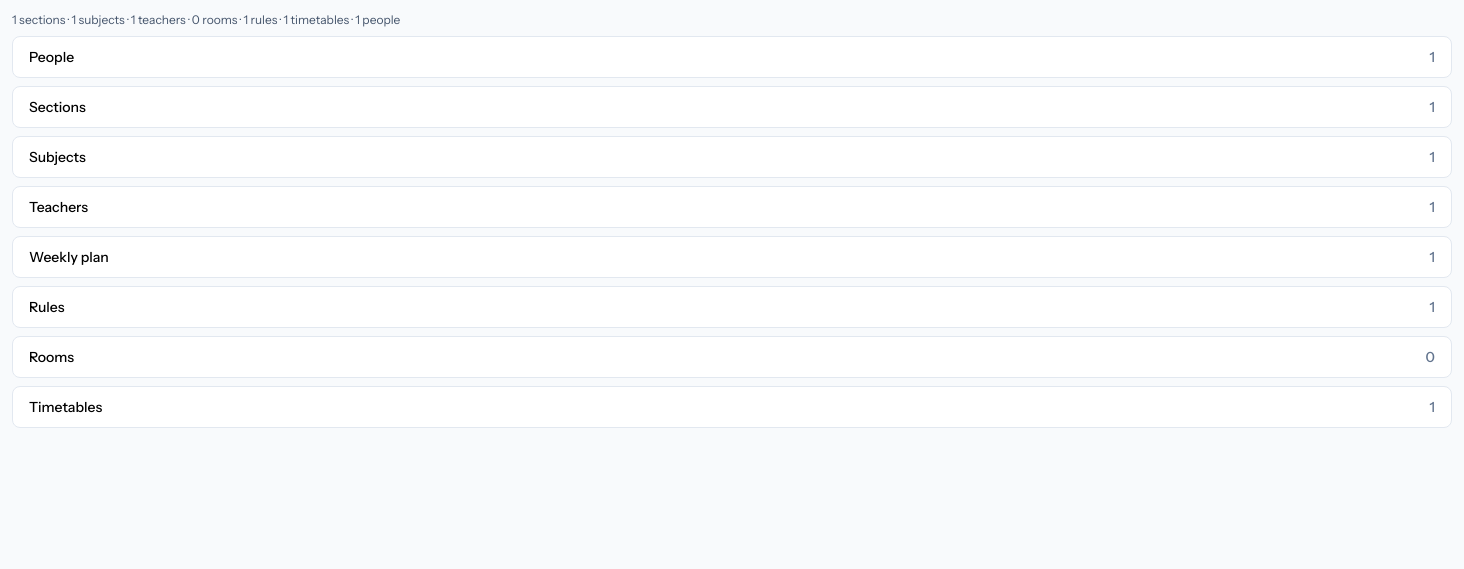
Scenario: admin: a school’s data and deleting › shows what the school entered, by section
Expected: the text "1 sections · 1 subjects · 1 teachers" is shown, x1=12 y1=12 x2=400 y2=27
Click the button "Teachers 1" at {"x": 59, "y": 207}, box x1=13 y1=187 x2=1451 y2=227
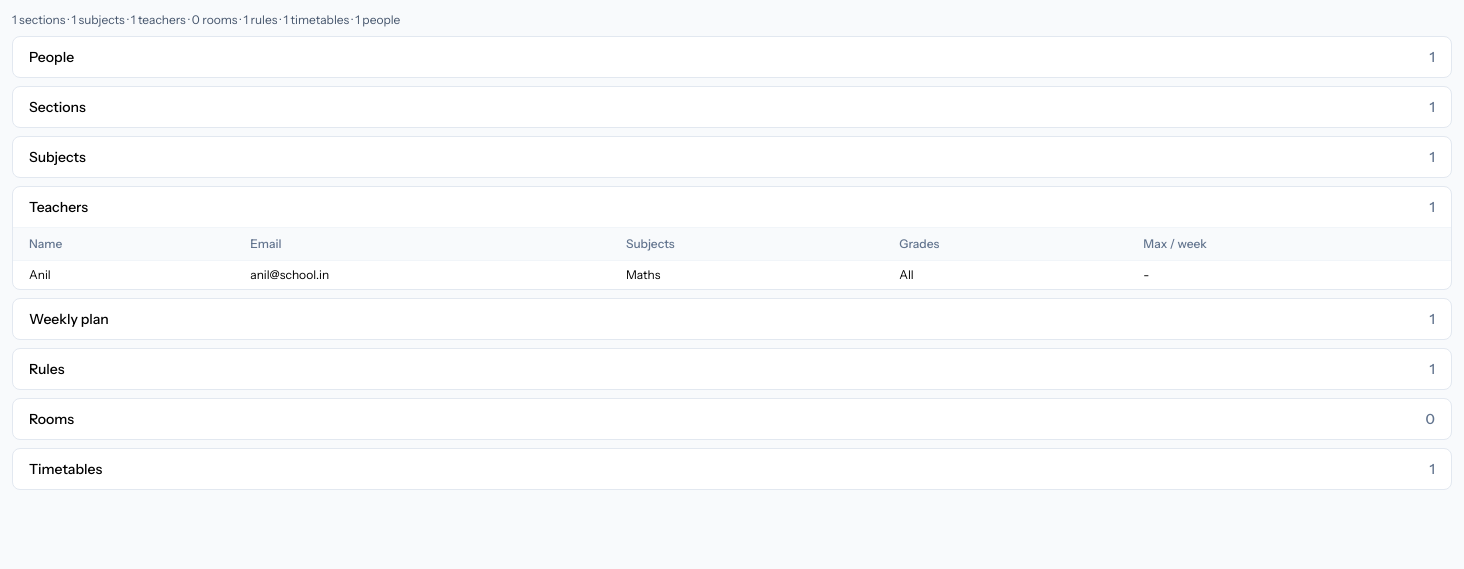
Now the text "anil@school.in" is shown, box x1=234 y1=260 x2=610 y2=289
Click the button "Weekly plan 1" at {"x": 69, "y": 319}, box x1=13 y1=299 x2=1451 y2=339
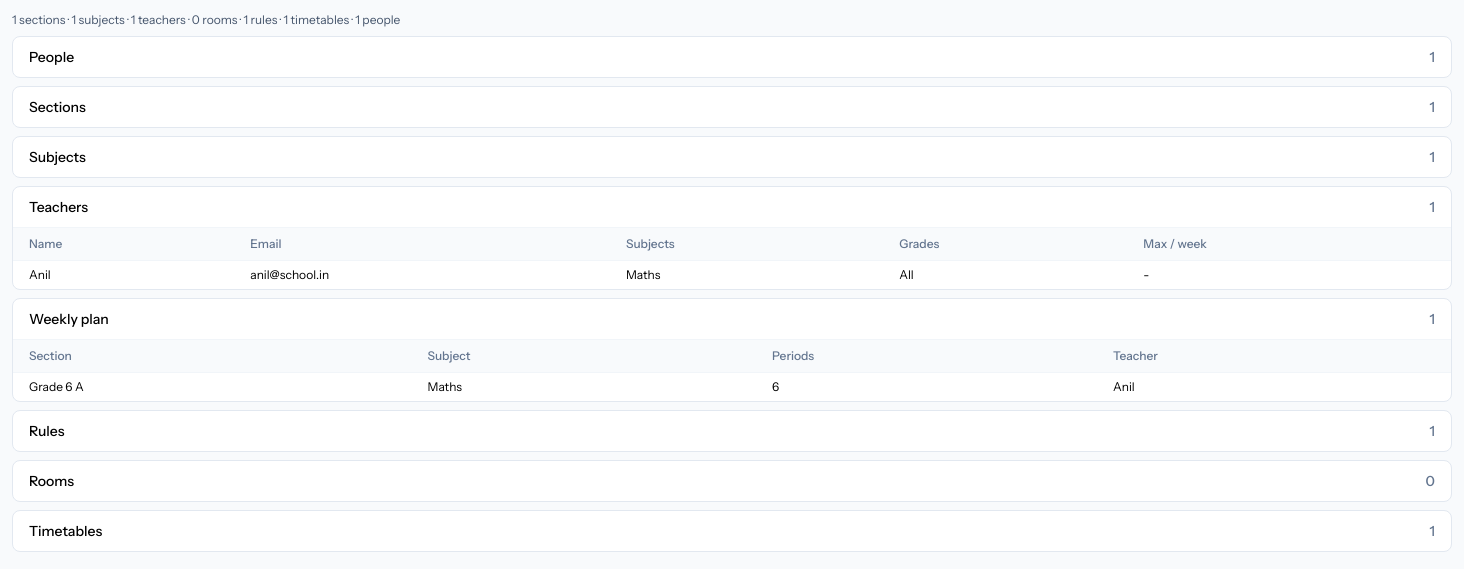
Now the text "Grade 6 A" is shown, box x1=13 y1=372 x2=412 y2=401
